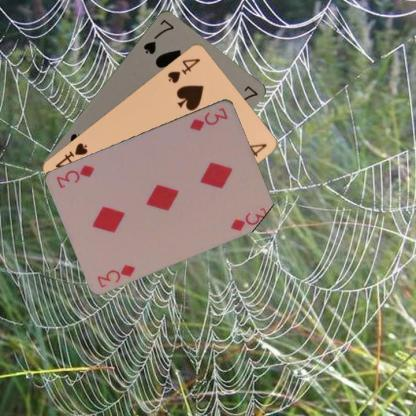3d: (94, 261, 138, 288), (188, 104, 230, 132)
4s: (164, 55, 202, 84)
7s: (140, 16, 176, 56)
